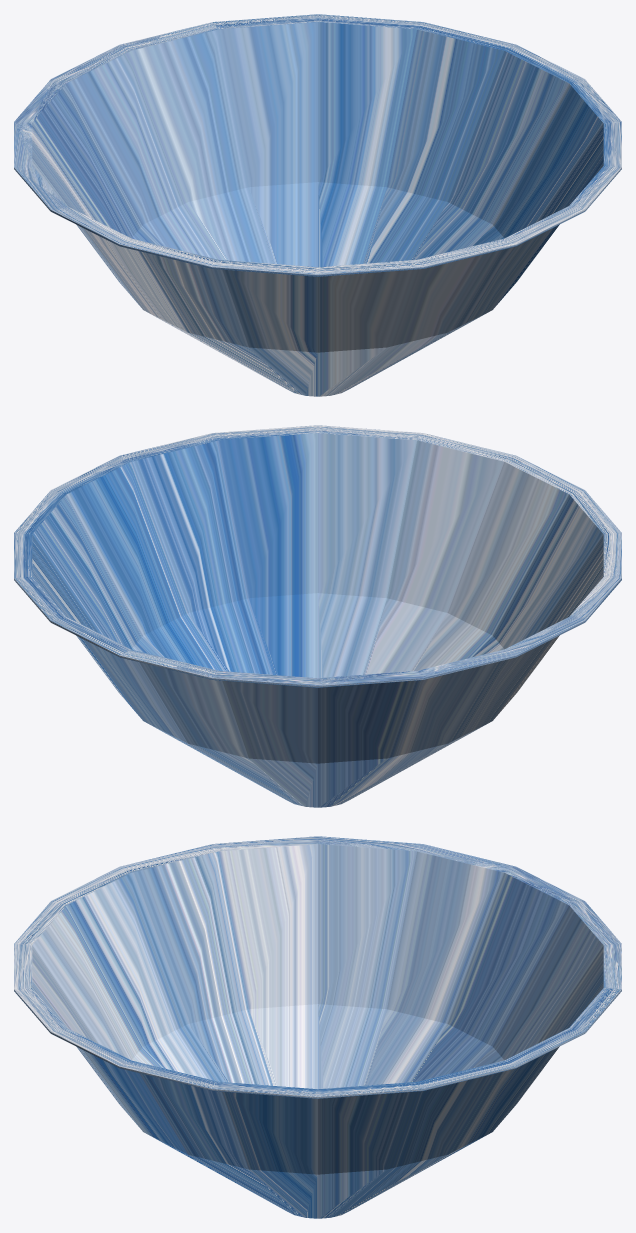
File: sinkhole.FBX
3 views of the same model, one above another, from view 1: azimuth 30°, elevation 25°; view 2: azimuth 150°, elevation 25°; view 3: azimuth 270°, elevation 25° (orthographic).
Parts seen in each view (by area): view 1: Cylinder001; view 2: Cylinder001; view 3: Cylinder001.
Boxes of the visible parts, x1,y1,x2,y2 form: Cylinder001: (14,14,621,396); Cylinder001: (14,425,621,807); Cylinder001: (14,836,621,1218).
Bounding box in the file's own units: 85.23 × 36.04 × 83.94.
Materials: 1 (1 with a texture image).
